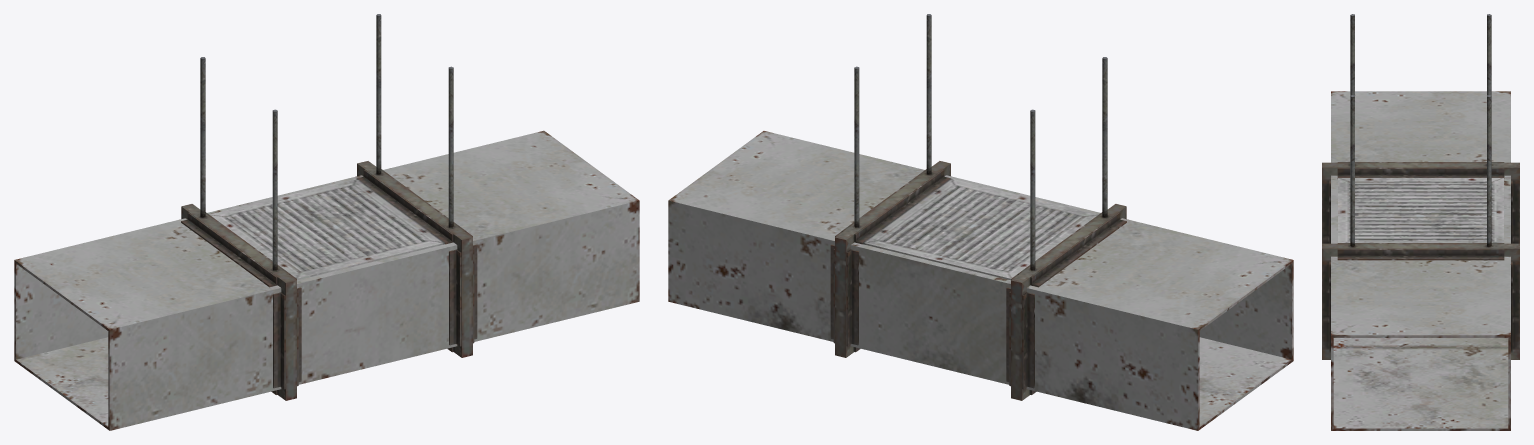
The model's file is sm22_057_duct01a.fbx.
3 renders of one model, left to right at view 1: azimuth 30°, elevation 25°; view 2: azimuth 150°, elevation 25°; view 3: azimuth 270°, elevation 25°, orthographic. The views are drawn at different scales.
Visible parts, largest first — view 1: LOD_1_Group_0_Sub_1__sm22_057_Duct01A_A_Mat__Env_default; view 2: LOD_1_Group_0_Sub_1__sm22_057_Duct01A_A_Mat__Env_default; view 3: LOD_1_Group_0_Sub_1__sm22_057_Duct01A_A_Mat__Env_default.
Boxes of the visible parts, bbox=[...] form: LOD_1_Group_0_Sub_1__sm22_057_Duct01A_A_Mat__Env_default: bbox=[14, 14, 639, 430]; LOD_1_Group_0_Sub_1__sm22_057_Duct01A_A_Mat__Env_default: bbox=[668, 14, 1293, 430]; LOD_1_Group_0_Sub_1__sm22_057_Duct01A_A_Mat__Env_default: bbox=[1322, 14, 1519, 430].
Size of the model in its own units: 3.57 by 1.79 by 1.22.
